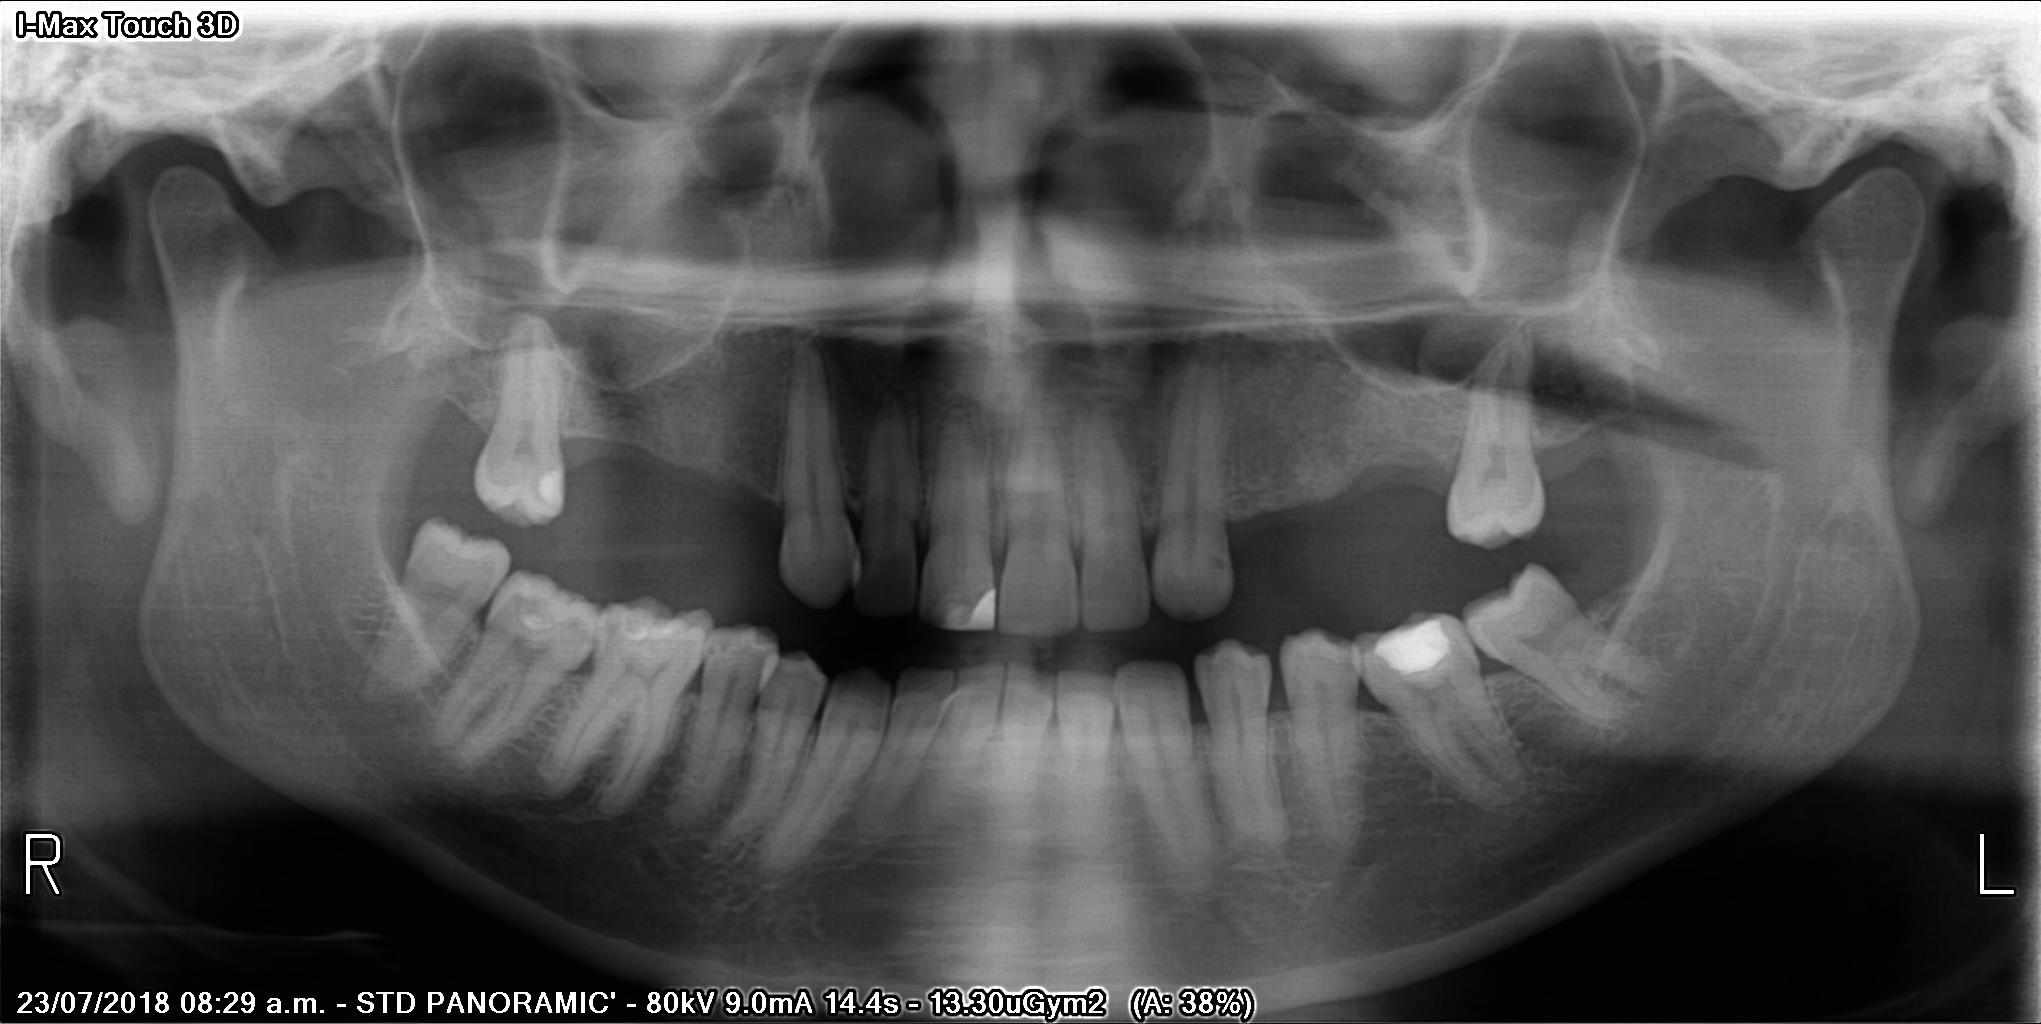Çürük: (1363, 615, 1465, 678), (534, 458, 585, 517), (624, 605, 700, 643), (956, 581, 998, 636)
Çürük Bölgesi: (507, 590, 555, 633), (592, 607, 618, 657), (704, 631, 730, 660)
